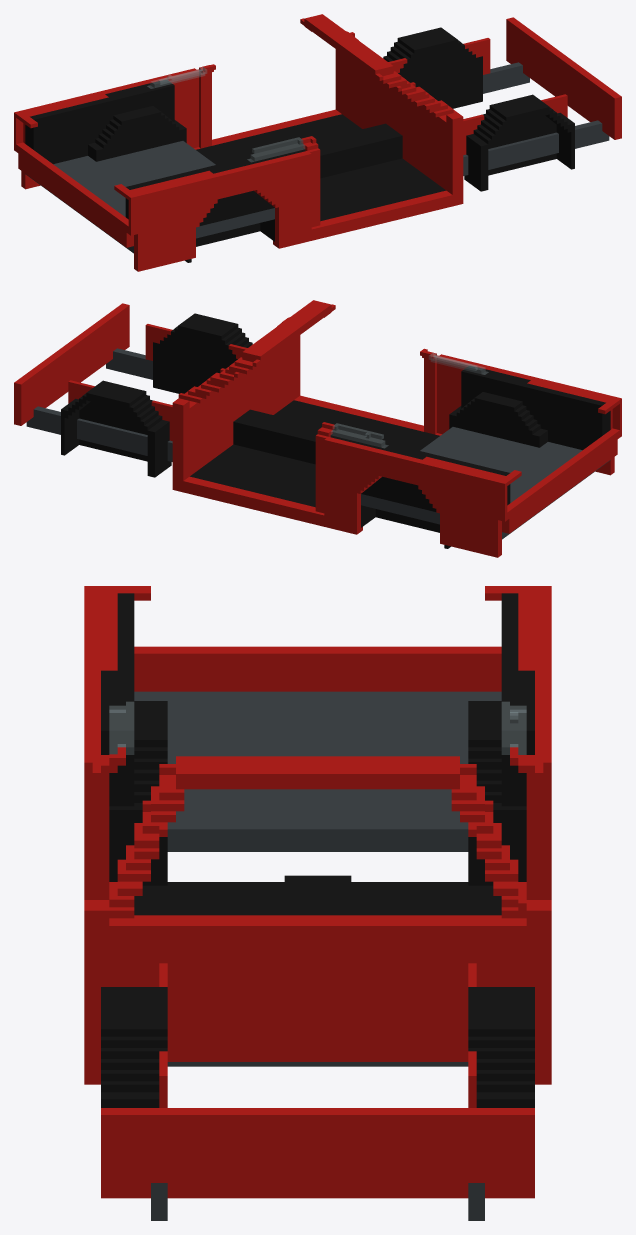
File: convertible_shell.glb
3 renders of one model, top to bottom at view 1: azimuth 30°, elevation 25°; view 2: azimuth 150°, elevation 25°; view 3: azimuth 270°, elevation 25°, orthographic. The views are drawn at different scales.
Visible parts, largest first — view 1: body:compound; view 2: body:compound; view 3: body:compound.
Boxes of the visible parts, x1,y1,x2,y2 form: body:compound: [14, 14, 621, 271]; body:compound: [14, 300, 621, 557]; body:compound: [84, 586, 551, 1220].
Bounding box in the file's own units: 4.28 × 1.09 × 1.75.
